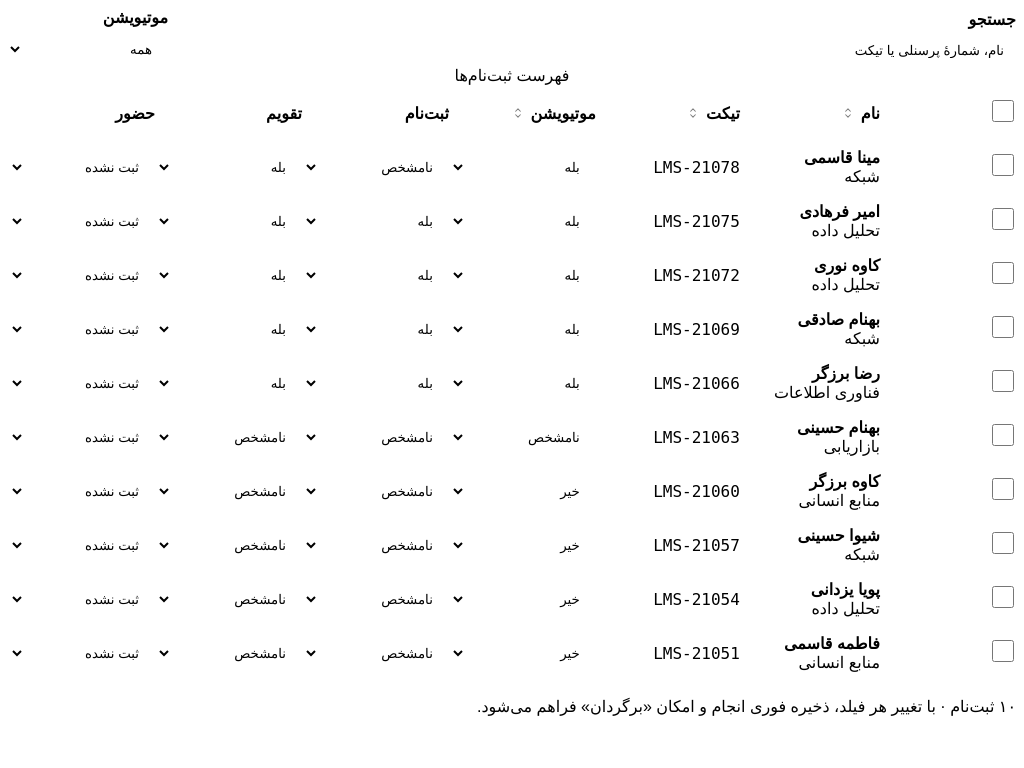
Test case: enrollments inline edit › rolls back and shows an error toast when the server refuses
Select "خیر" in the dropdown named "موتیویشن " at coordinates (523, 167), box x1=451 y1=150 x2=596 y2=184
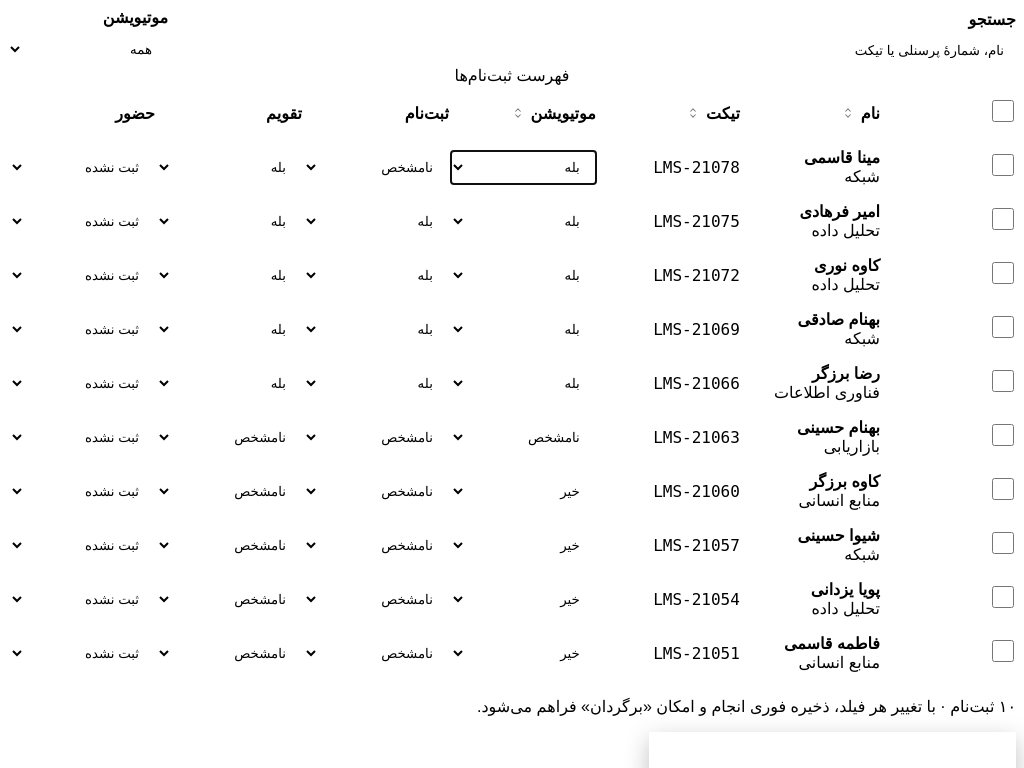
Result: the text "ذخیره نشد و مقدار قبلی برگردانده شد: سرور رد کرد" is shown at x1=669 y1=746 x2=1016 y2=766
